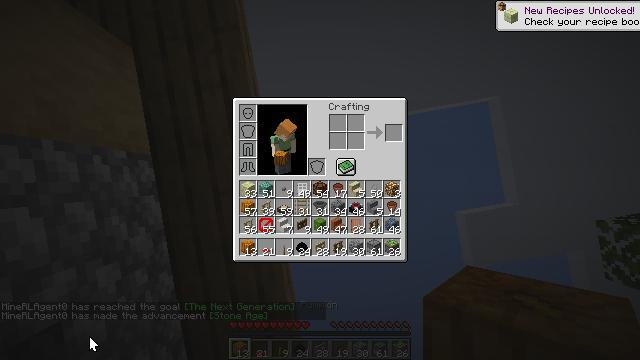cursor: (89, 336, 99, 352)
